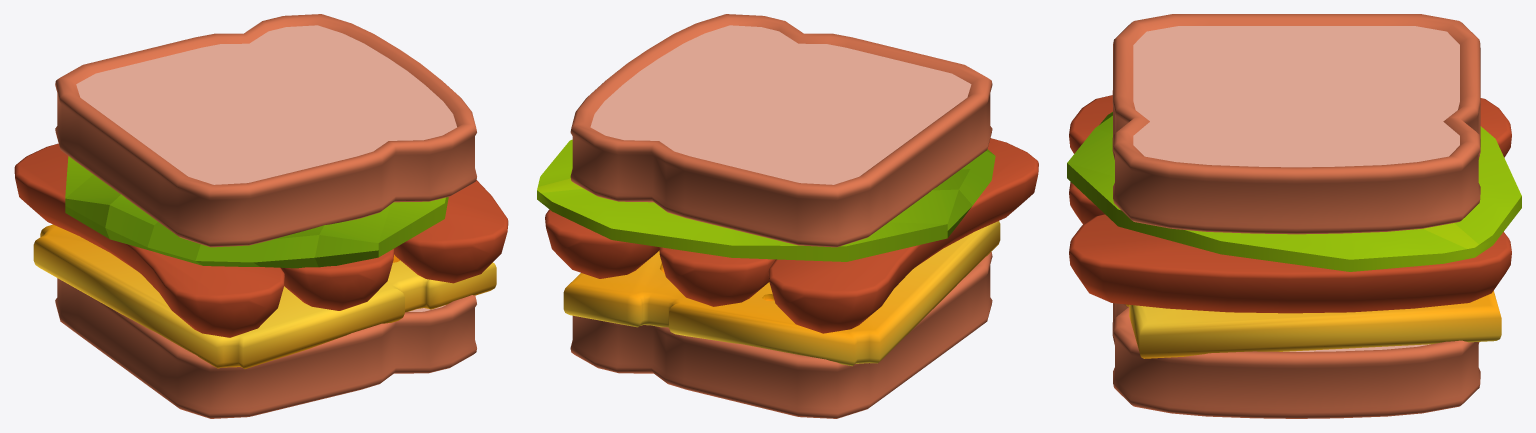
The model's file is Sandwich_V1_00.fbx.
3 views of the same model, side by side, from view 1: azimuth 30°, elevation 25°; view 2: azimuth 150°, elevation 25°; view 3: azimuth 270°, elevation 25° (orthographic). The views are drawn at different scales.
Visible parts, largest first — view 1: Sandwich_V1_00; view 2: Sandwich_V1_00; view 3: Sandwich_V1_00.
Part boxes in pixels (x1=…): Sandwich_V1_00: x1=14, y1=14, x2=508, y2=418; Sandwich_V1_00: x1=537, y1=14, x2=1038, y2=418; Sandwich_V1_00: x1=1067, y1=14, x2=1521, y2=418.
Size of the model in its own units: 50.62 by 30.1 by 49.98.
